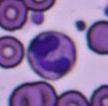N: (27, 31, 76, 79)
